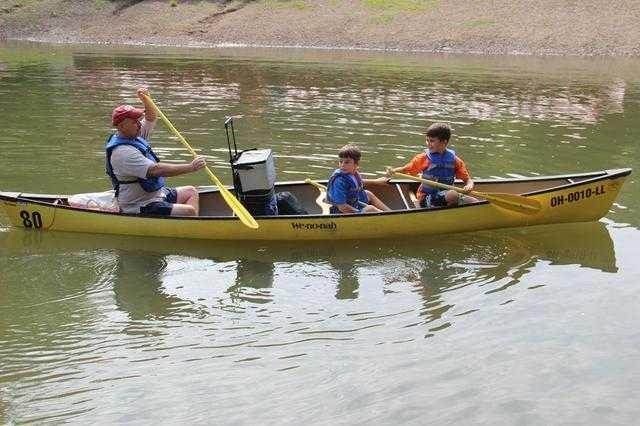kayak: (2, 157, 633, 249)
